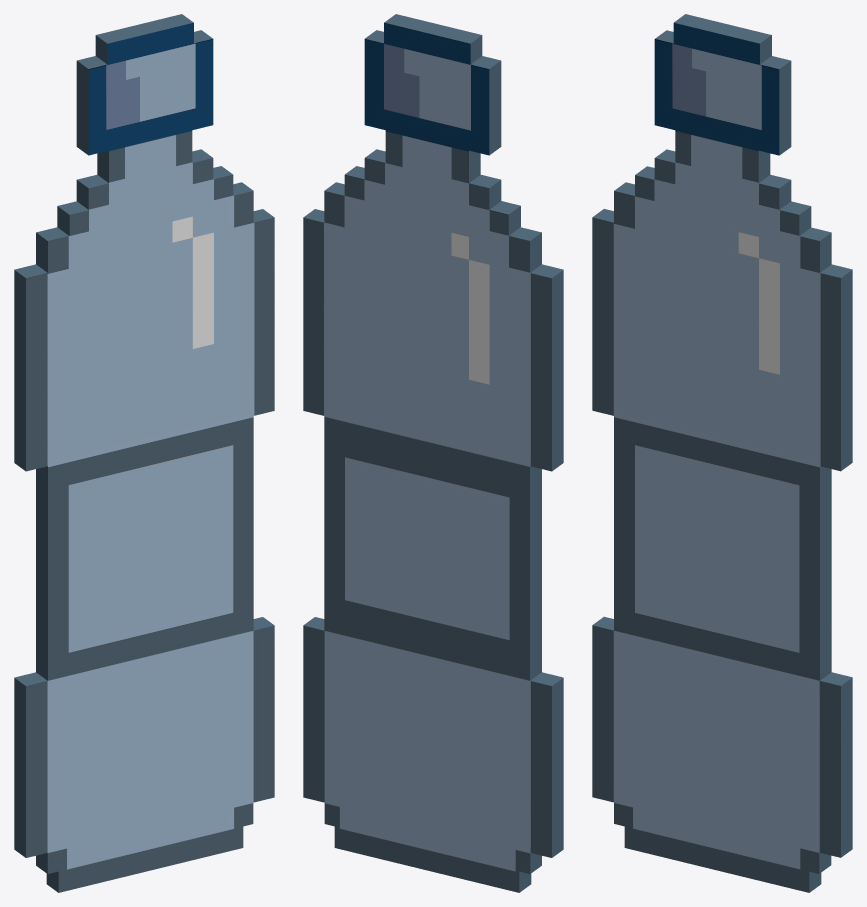
Rendered from Garrafa água.FBX.
3 views of the same model, side by side, from view 1: azimuth 30°, elevation 25°; view 2: azimuth 150°, elevation 25°; view 3: azimuth 330°, elevation 25° (orthographic).
Visible parts, largest first — view 1: Box028; view 2: Box028; view 3: Box028.
Boxes of the visible parts, x1,y1,x2,y2 form: Box028: [14, 14, 274, 892]; Box028: [303, 14, 563, 892]; Box028: [592, 14, 852, 892].
Bounding box in the file's own units: 440 × 1416 × 37.48.
Materials: 2 (2 with a texture image).
